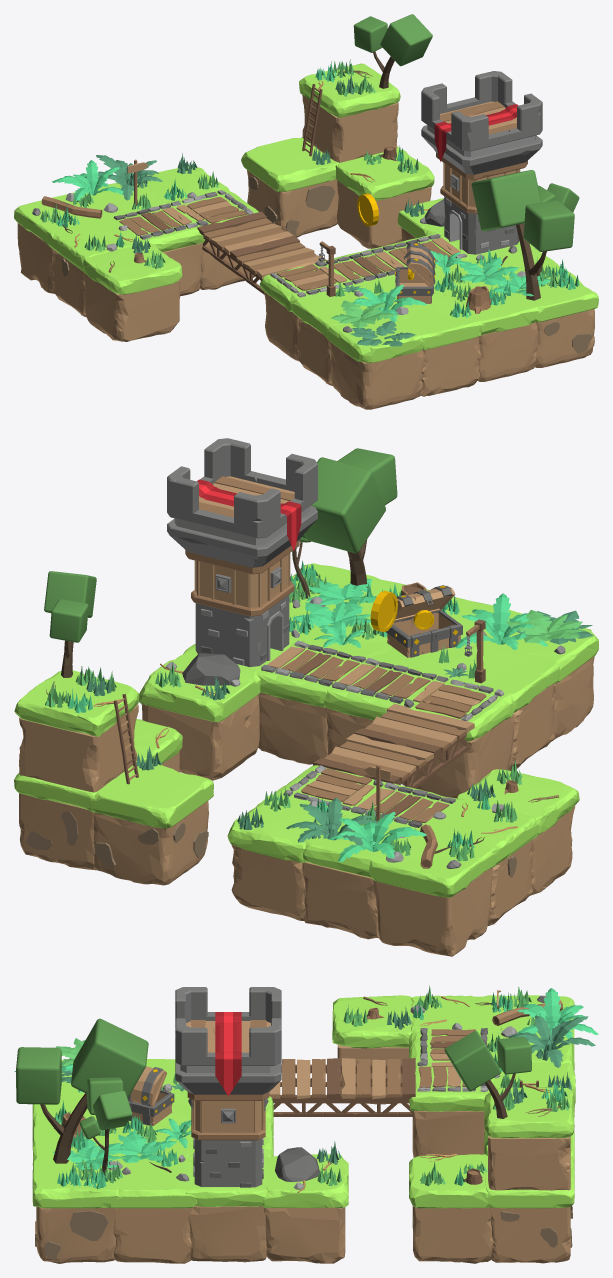
3 renders of one model, top to bottom at view 1: azimuth 30°, elevation 25°; view 2: azimuth 150°, elevation 25°; view 3: azimuth 270°, elevation 25°, orthographic. The views are drawn at different scales.
Visible parts, largest first — view 1: TowerV1, TreeV3_004, Tile_Bot_Part_17, Tile_Bot_Part_11, Tile_Bot_Part_23, Tile_Top_Part_22, Tile_Top_Part_17, TreeV3_004_1, Tile_Top_Part_21, Tile_Top_Part_23, Tile_Bot_Part_21, Tile_Bot_Part_22 (+47 smaller); view 2: TowerV1, TreeV3_004, Tile_Bot_Part_19, Tile_Bot_Part_23, Tile_Bot_Part_22, Tile_Top_Part_22, Tile_Bot_Part_6, Tile_Bot_Part_16, Tile_Top_Part_19, Tile_Top_Part_23, Tile_Bot_Part_15, Tile_Bot_Part_4 (+47 smaller); view 3: TowerV1, TreeV3_004, Tile_Bot_Part_6, Tile_Bot_Part_23, Tile_Bot_Part_21, Tile_Bot_Part_9, Tile_Bot_Part_5, Tile_Bot_Part_20, Bridge_003, TreeV3_004_1, Tile_Top_Part_21, Tile_Top_Part_23 (+37 smaller).
Boxes of the visible parts, x1=… form: TowerV1: x1=421, y1=71, x2=542, y2=254; TreeV3_004: x1=471, y1=170, x2=574, y2=300; Tile_Bot_Part_17: x1=83, y1=272, x2=179, y2=341; Tile_Bot_Part_11: x1=329, y1=341, x2=423, y2=409; Tile_Bot_Part_23: x1=302, y1=95, x2=398, y2=162; Tile_Top_Part_22: x1=241, y1=138, x2=339, y2=191; Tile_Top_Part_17: x1=83, y1=243, x2=182, y2=294; TreeV3_004_1: x1=353, y1=14, x2=432, y2=88; Tile_Top_Part_21: x1=335, y1=149, x2=434, y2=200; Tile_Top_Part_23: x1=299, y1=63, x2=400, y2=117; Tile_Bot_Part_21: x1=337, y1=180, x2=431, y2=248; Tile_Bot_Part_22: x1=247, y1=170, x2=338, y2=237; TowerV1: x1=167, y1=438, x2=317, y2=667; TreeV3_004: x1=304, y1=448, x2=397, y2=590; Tile_Bot_Part_19: x1=373, y1=867, x2=492, y2=956; Tile_Bot_Part_23: x1=19, y1=704, x2=138, y2=792; Tile_Bot_Part_22: x1=93, y1=801, x2=208, y2=885; Tile_Top_Part_22: x1=88, y1=760, x2=213, y2=828; Tile_Bot_Part_6: x1=141, y1=695, x2=259, y2=780; Tile_Bot_Part_16: x1=302, y1=862, x2=379, y2=939; Tile_Top_Part_19: x1=369, y1=835, x2=496, y2=897; Tile_Top_Part_23: x1=14, y1=670, x2=139, y2=736; Tile_Bot_Part_15: x1=231, y1=844, x2=305, y2=920; Tile_Bot_Part_4: x1=258, y1=692, x2=327, y2=764; TowerV1: x1=175, y1=987, x2=281, y2=1187; TreeV3_004: x1=16, y1=1018, x2=148, y2=1163; Tile_Bot_Part_6: x1=264, y1=1207, x2=345, y2=1263; Tile_Bot_Part_23: x1=488, y1=1136, x2=570, y2=1190; Tile_Bot_Part_21: x1=412, y1=1206, x2=493, y2=1263; Tile_Bot_Part_9: x1=113, y1=1207, x2=192, y2=1263; Tile_Bot_Part_5: x1=189, y1=1206, x2=266, y2=1262; Tile_Bot_Part_20: x1=490, y1=1207, x2=570, y2=1263; Bridge_003: x1=341, y1=1058, x2=415, y2=1116; TreeV3_004_1: x1=444, y1=1030, x2=531, y2=1118; Tile_Top_Part_21: x1=409, y1=1154, x2=489, y2=1208; Tile_Top_Part_23: x1=484, y1=1087, x2=574, y2=1138.
Size of the model in its own units: 6.49 by 3.5 by 7.77.
1 material, 1 textured.
